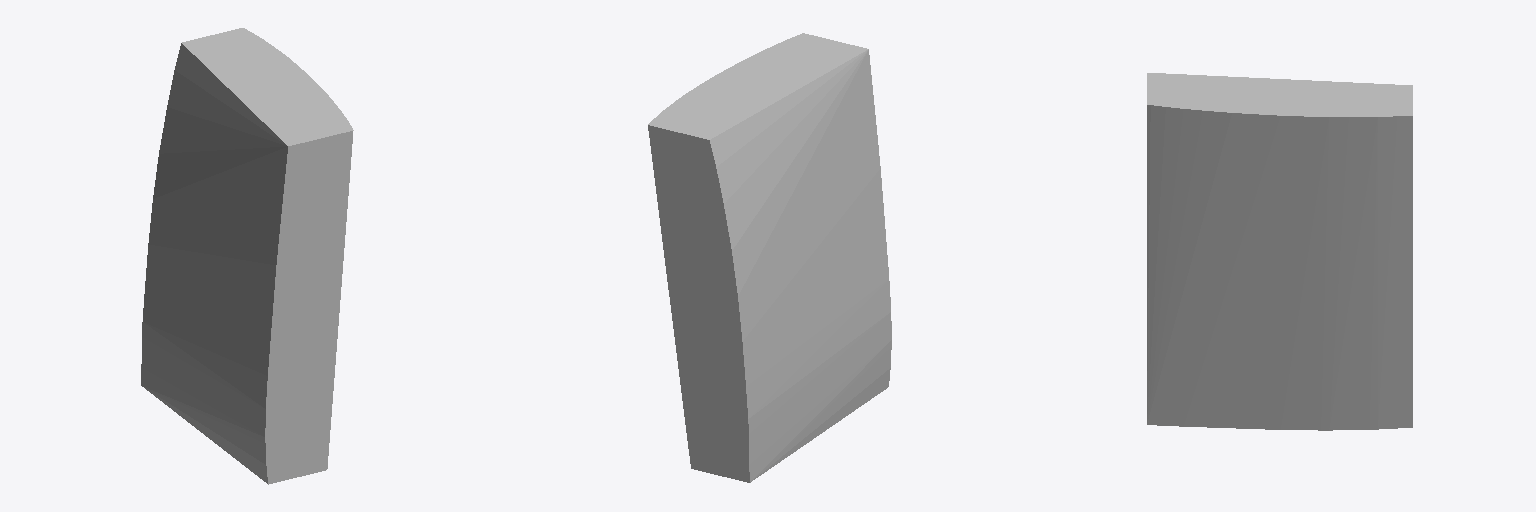
The model's file is phantom-elastrat_collision_288.obj.
The picture shows the model from 3 angles: view 1: azimuth 30°, elevation 25°; view 2: azimuth 150°, elevation 25°; view 3: azimuth 270°, elevation 25°; orthographic projection.
Bounding box in the file's own units: 0.0031 × 0.0088 × 0.0063.